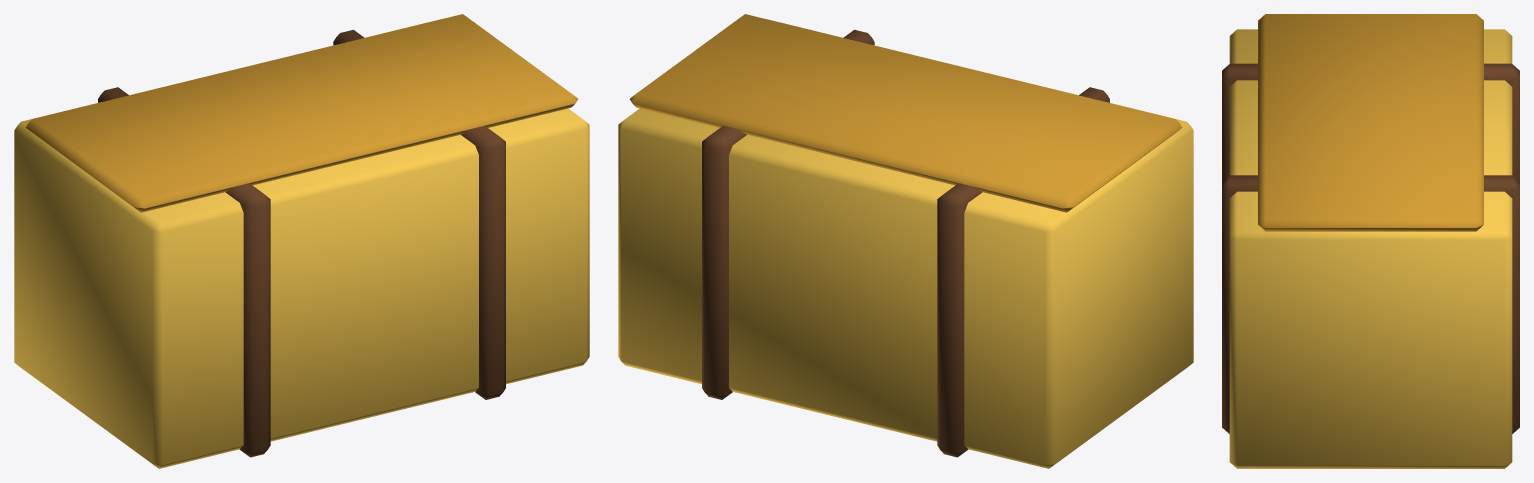
File: P_MedHayBale.fbx
3 renders of one model, left to right at view 1: azimuth 30°, elevation 25°; view 2: azimuth 150°, elevation 25°; view 3: azimuth 270°, elevation 25°, orthographic. The views are drawn at different scales.
Visible parts, largest first — view 1: M_HayBale; view 2: M_HayBale; view 3: M_HayBale.
Boxes of the visible parts, x1,y1,x2,y2 form: M_HayBale: (14,14,589,468); M_HayBale: (618,14,1193,468); M_HayBale: (1222,14,1519,468).
Bounding box in the file's own units: 1.32 × 0.76 × 0.79.
Materials: 1 (1 with a texture image).
